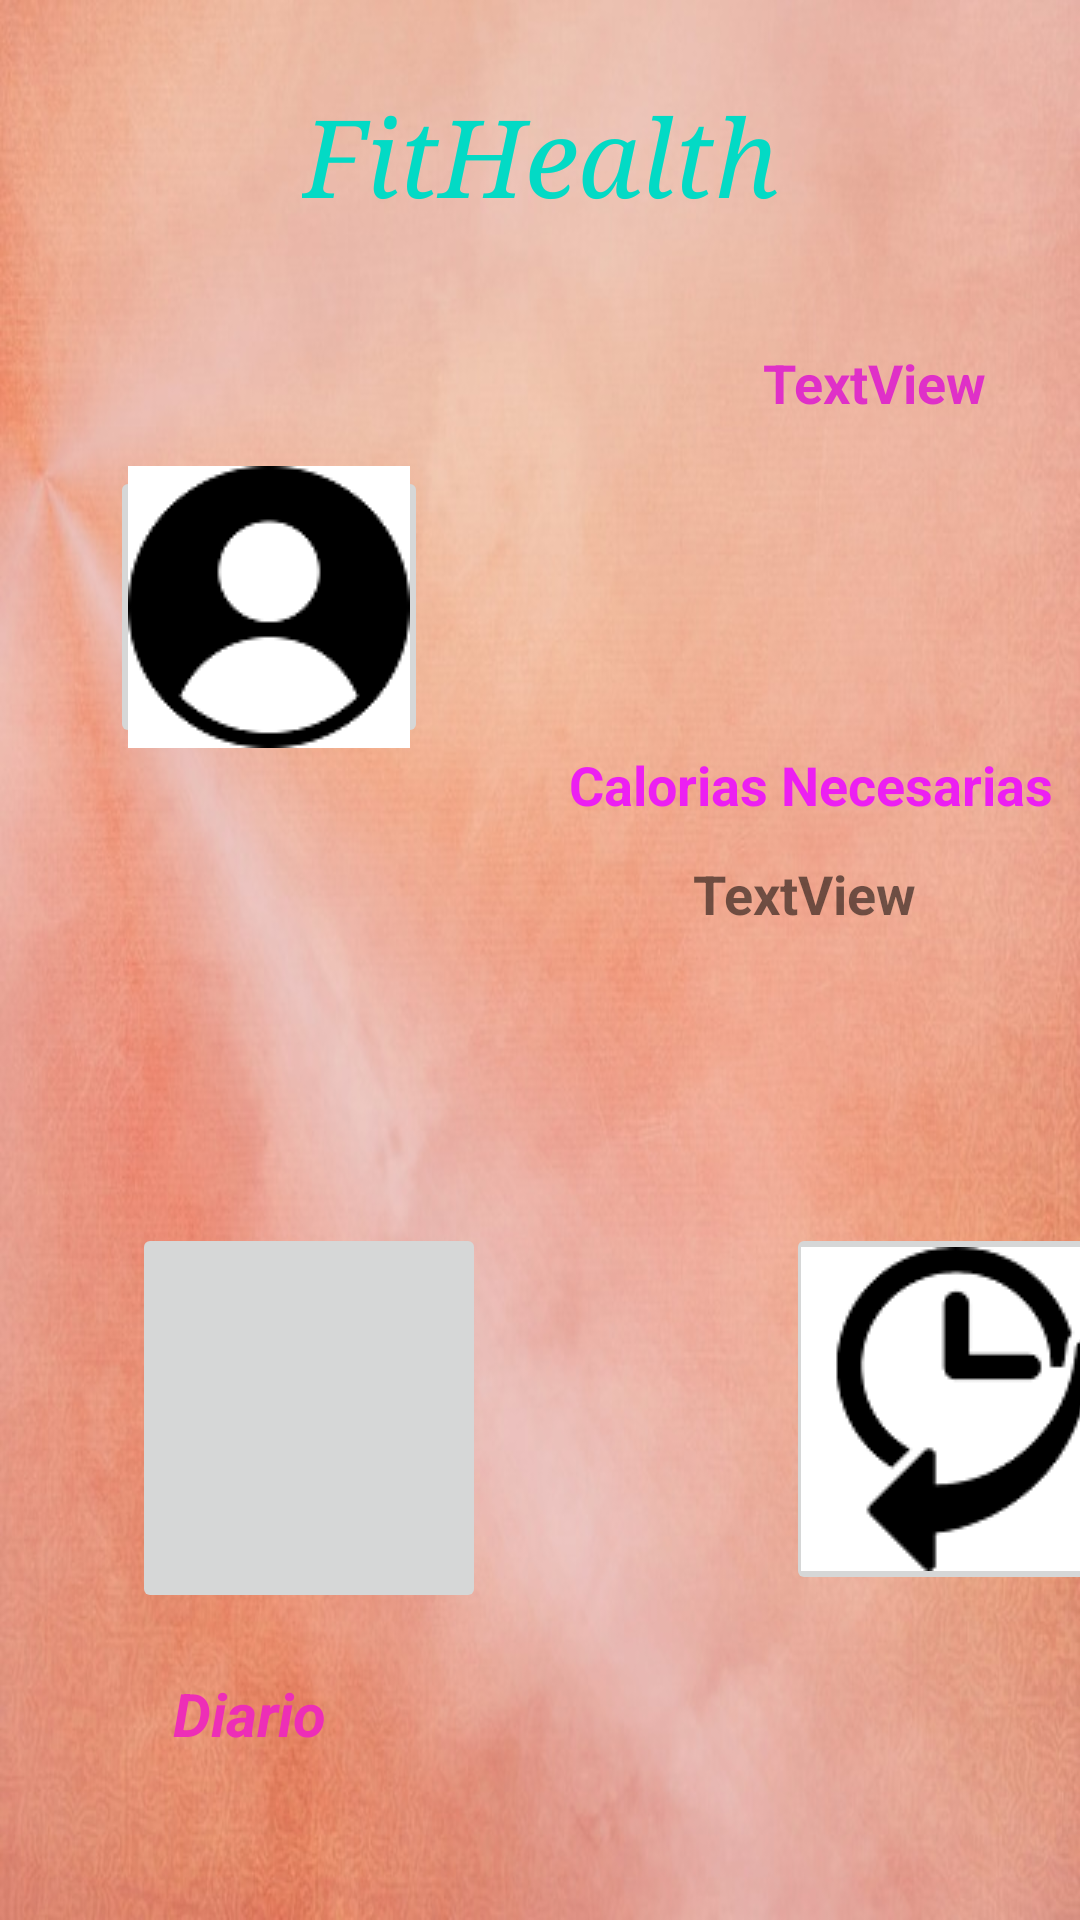

Where to tap for icons on this 1080×1920 app screen, as point (x, y):
usuario: point (263, 607)
